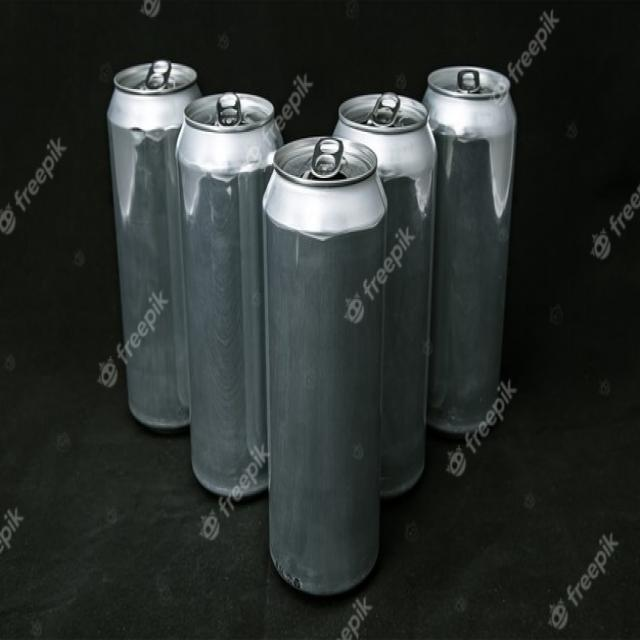non-organic waste: (255, 124, 389, 617), (414, 49, 538, 500), (178, 36, 290, 517), (334, 76, 442, 530), (108, 56, 202, 445)
